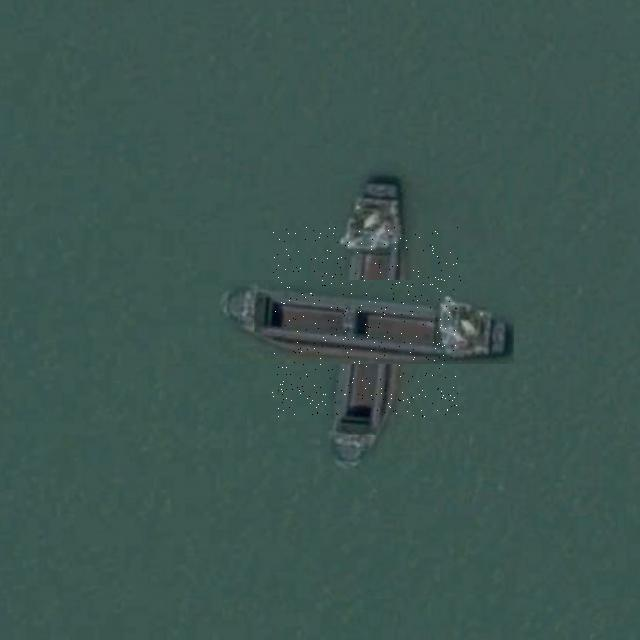boat: (271, 227, 461, 417)
